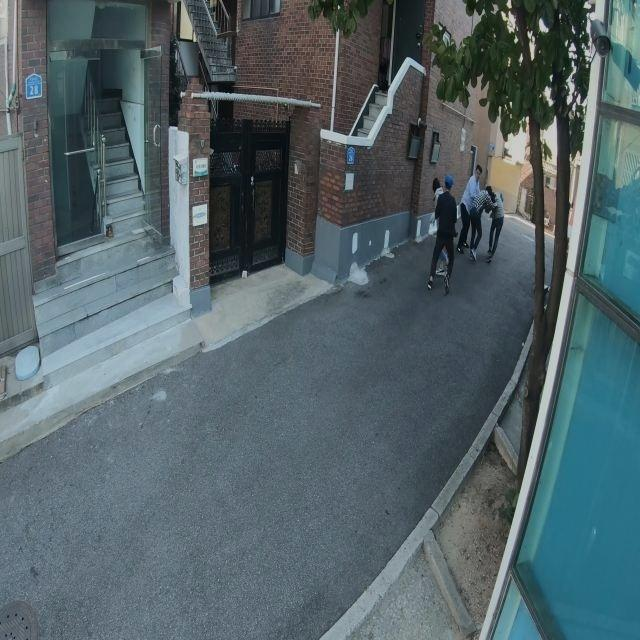non-fight: (427, 175, 460, 295), (461, 163, 487, 260)
